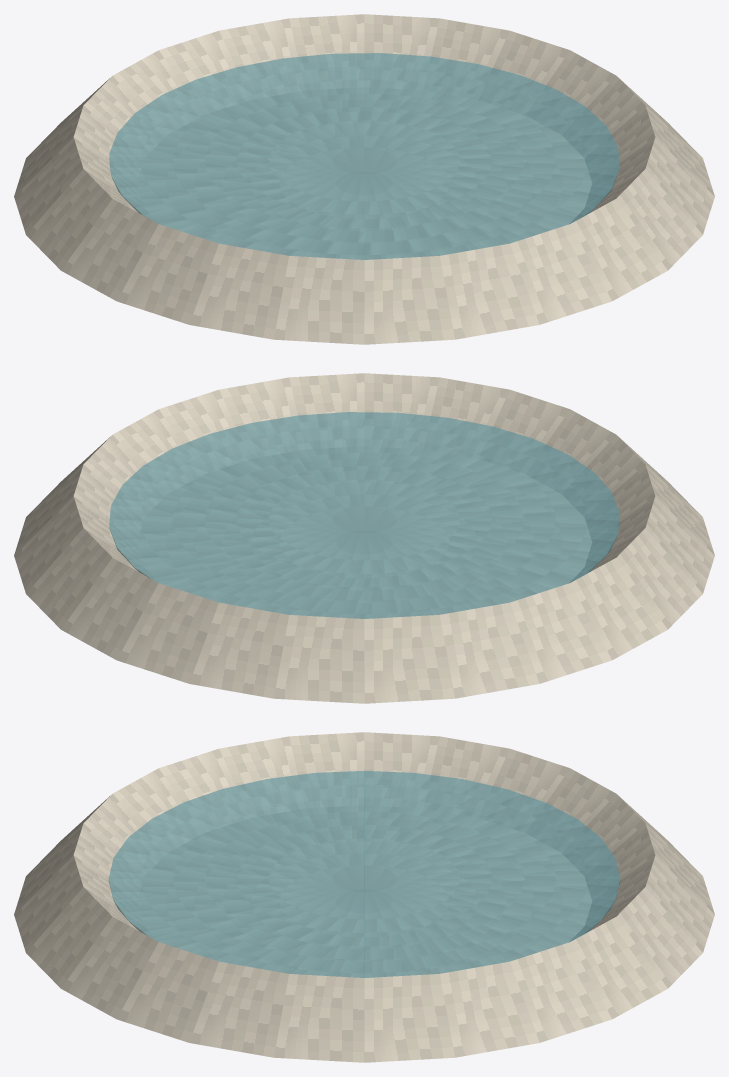
The model's file is cave-and-crystal-networks-underground-pool-3520b77d.glb.
3 views of the same model, one above another, from view 1: azimuth 30°, elevation 25°; view 2: azimuth 150°, elevation 25°; view 3: azimuth 270°, elevation 25° (orthographic).
Parts seen in each view (by area): view 1: underground-pool; view 2: underground-pool; view 3: underground-pool.
Part boxes in pixels (left/top/right/bottom): underground-pool: left=14, top=14, right=714, bottom=344; underground-pool: left=14, top=373, right=714, bottom=703; underground-pool: left=14, top=732, right=714, bottom=1062.
Bounding box in the file's own units: 4.8 × 0.45 × 4.8.
Materials: 2 (2 with a texture image).
